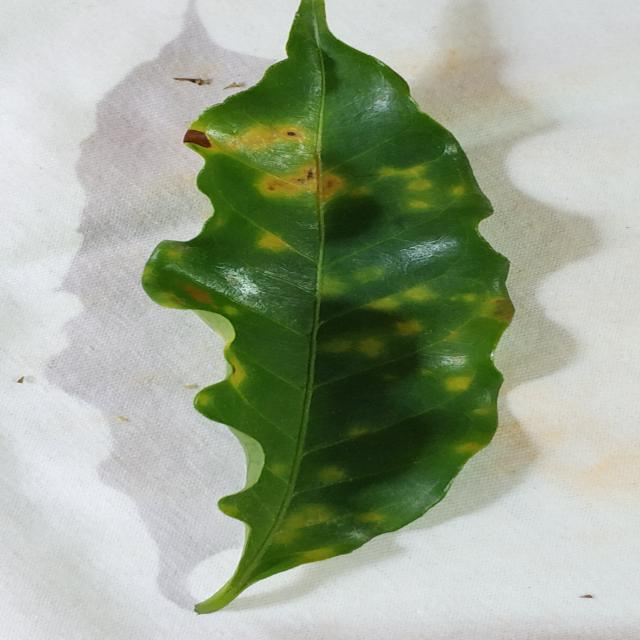Enfermedad-Roya: (139, 0, 516, 617)
